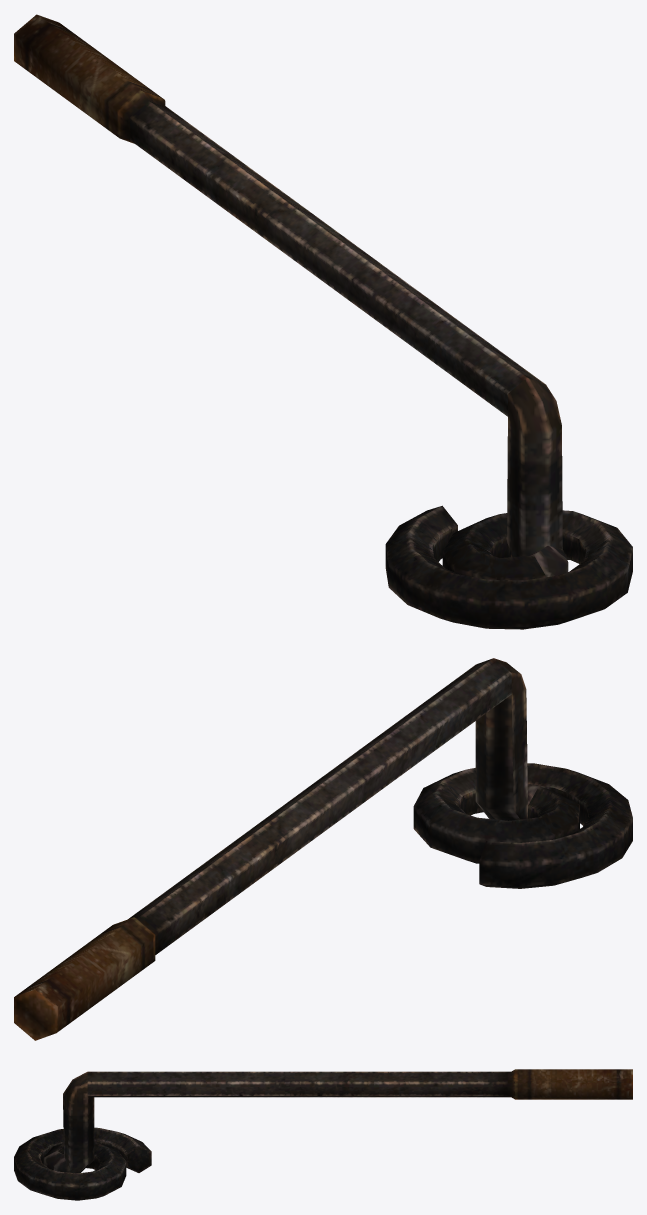
Rendered from abacinate_tool.dae.
The picture shows the model from 3 angles, top to bottom: view 1: azimuth 30°, elevation 25°; view 2: azimuth 150°, elevation 25°; view 3: azimuth 270°, elevation 25°; orthographic projection. The views are drawn at different scales.
Parts seen in each view (by area): view 1: polySurface2; view 2: polySurface2; view 3: polySurface2.
Boxes of the visible parts, <box> form: polySurface2: <box>14,14,632,629</box>; polySurface2: <box>14,658,632,1040</box>; polySurface2: <box>14,1069,632,1200</box>.
Bounding box in the file's own units: 0.0961 × 0.0895 × 0.4384.
